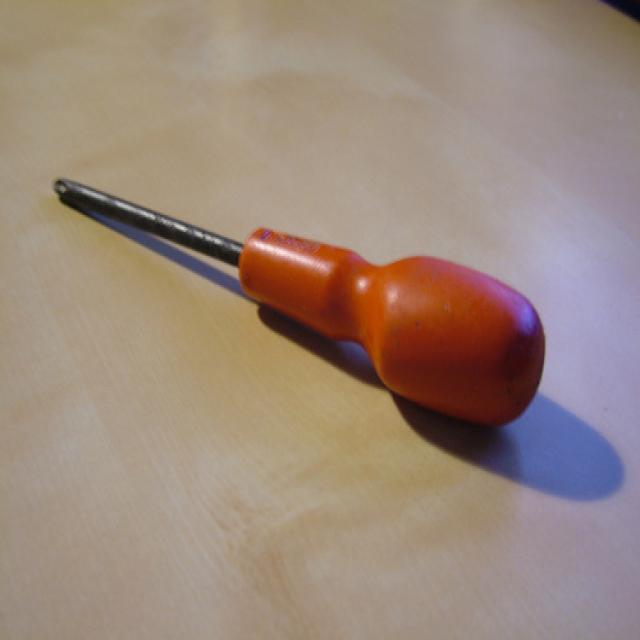screwdriver: (48, 144, 560, 438)
